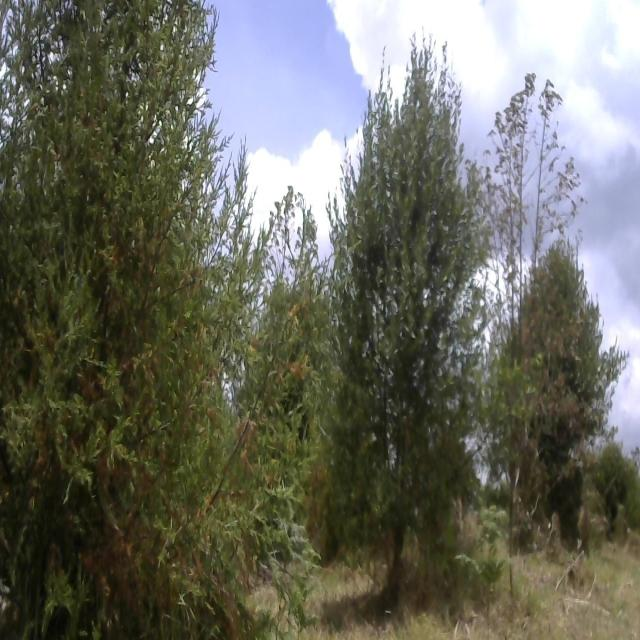Croton machrostychus: (484, 62, 590, 550)
Olea europea -africana-: (12, 0, 279, 640), (292, 21, 481, 640), (491, 229, 619, 506)
